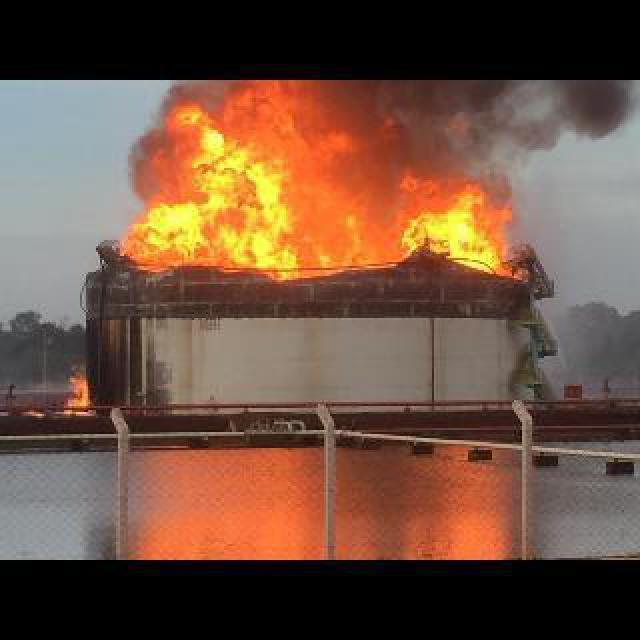Fire: (138, 110, 524, 280), (64, 370, 94, 412)
Smoke: (365, 80, 638, 192)
